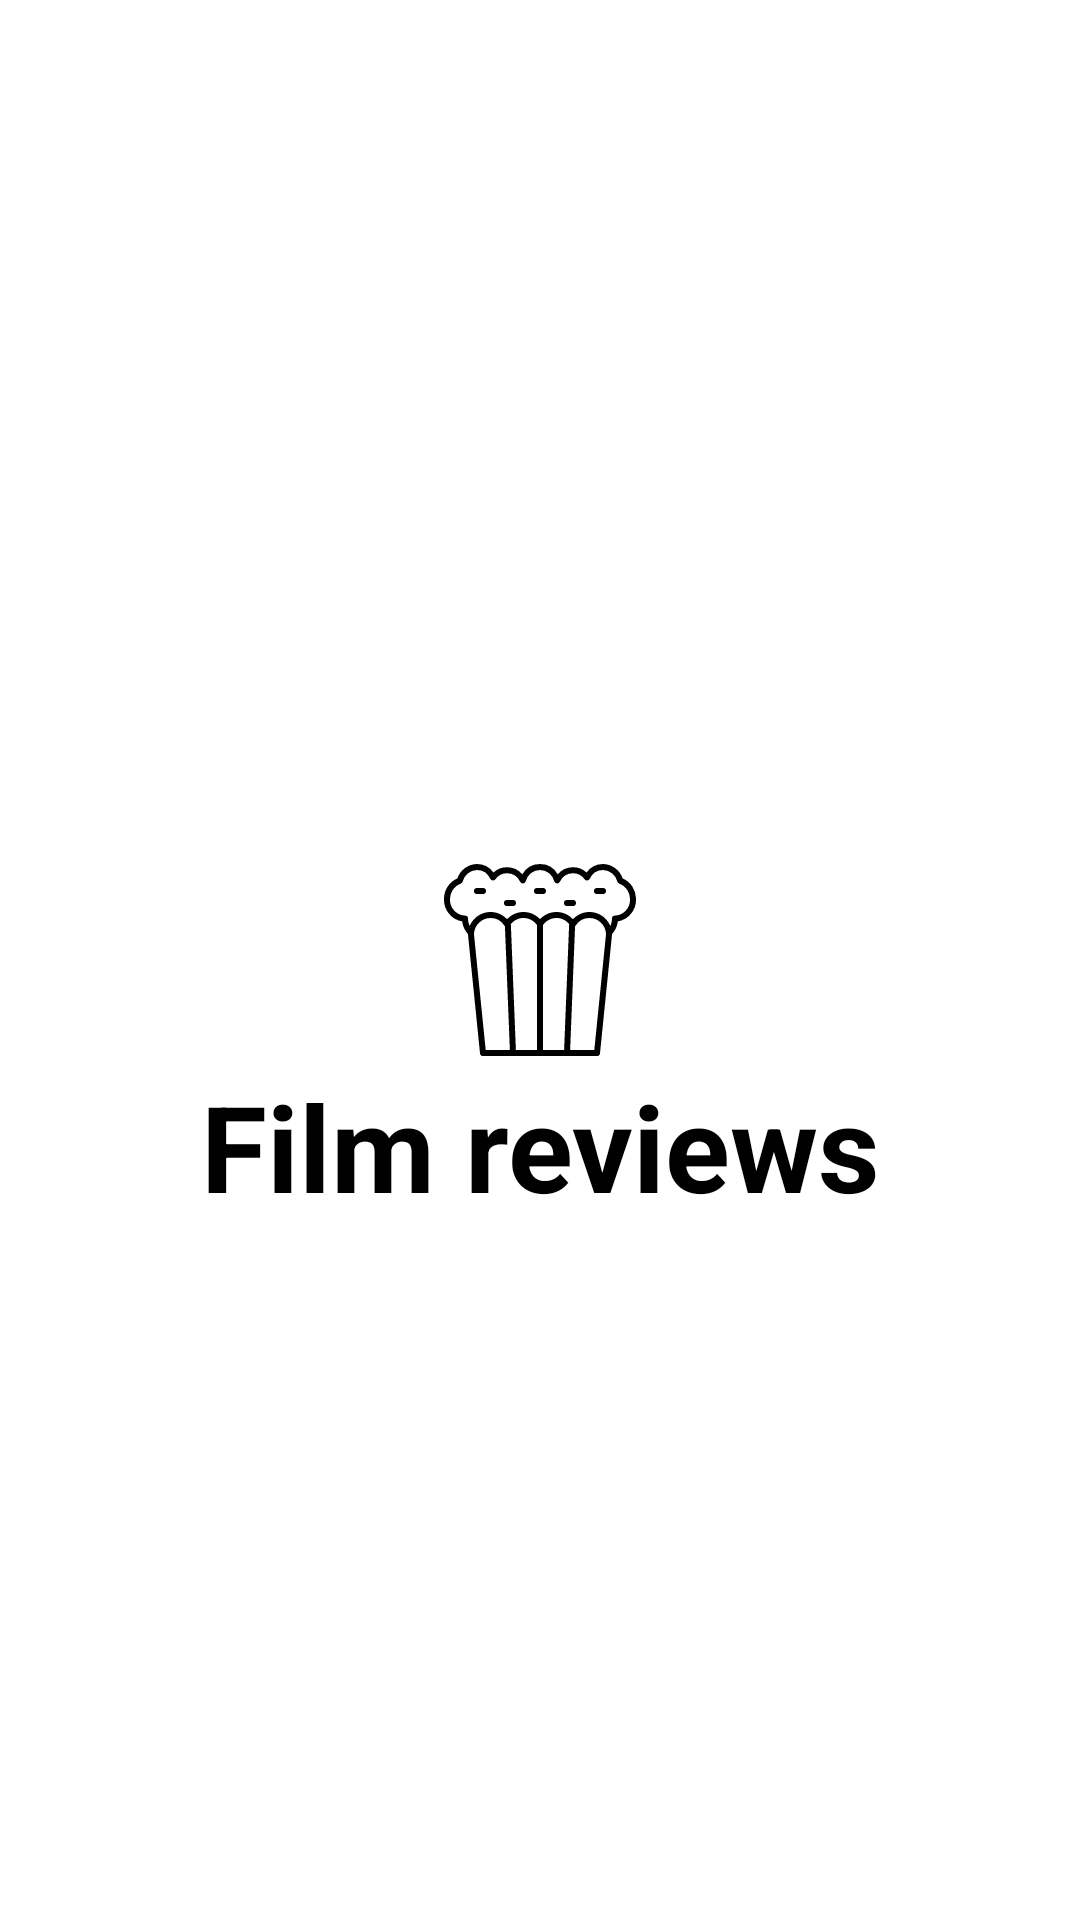

Icons on this 1080 x 1920 Android screen, each with its box as (x1=x1, y1=y1, x2=x2, y2=y2):
cinema: (x1=444, y1=864, x2=636, y2=1056)
